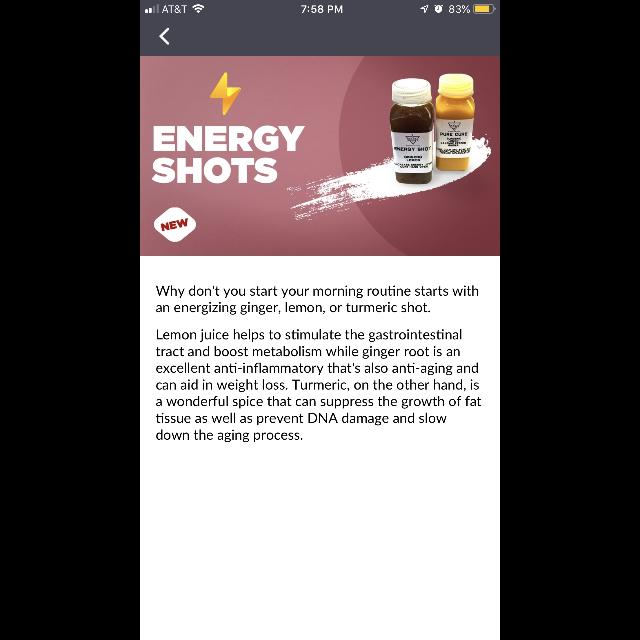icon: (160, 28, 170, 46)
image: (140, 56, 500, 256)
text: (156, 330, 482, 442), (156, 285, 478, 315), (151, 126, 305, 184)
uppertaskbar: (140, 0, 500, 14)
